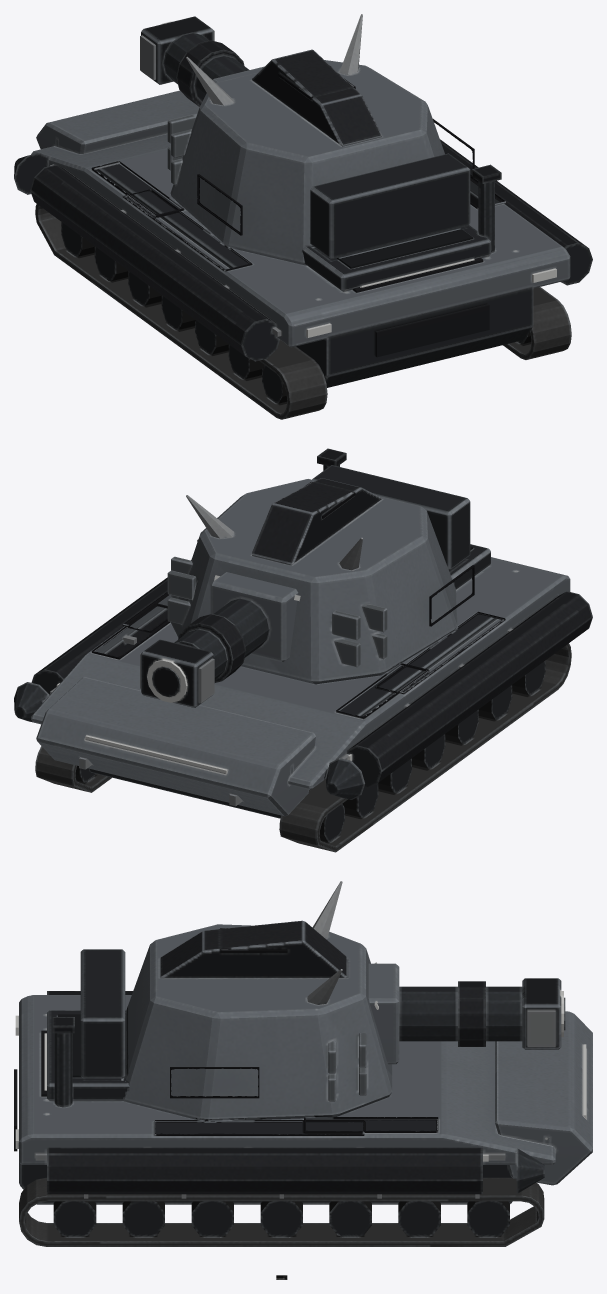
File: chs_grendel.fbx
3 views of the same model, one above another, from view 1: azimuth 30°, elevation 25°; view 2: azimuth 150°, elevation 25°; view 3: azimuth 270°, elevation 25° (orthographic). The views are drawn at different scales.
Parts seen in each view (by area): view 1: base_bar, turret_bar, trackL_bar, barrel_bar, trackR_bar, base_glow_running_bar; view 2: base_bar, turret_bar, trackL_bar, barrel_bar, trackR_bar, base_glow_running_bar, barrel_glow_weapon_bar; view 3: base_bar, turret_bar, trackR_bar, barrel_bar, base_glow_running_bar.
Boxes of the visible parts, left/top/right/bottom form: base_bar: left=14, top=90, right=592, bottom=387; turret_bar: left=167, top=14, right=474, bottom=265; trackL_bar: left=35, top=204, right=327, bottom=419; barrel_bar: left=140, top=16, right=264, bottom=106; trackR_bar: left=503, top=287, right=571, bottom=359; base_glow_running_bar: left=306, top=258, right=556, bottom=337; base_bar: left=14, top=448, right=592, bottom=818; turret_bar: left=167, top=465, right=474, bottom=684; trackL_bar: left=279, top=643, right=571, bottom=852; barrel_bar: left=140, top=572, right=298, bottom=707; trackR_bar: left=35, top=746, right=111, bottom=792; base_glow_running_bar: left=56, top=683, right=352, bottom=773; barrel_glow_weapon_bar: left=147, top=659, right=187, bottom=702; base_bar: left=14, top=991, right=592, bottom=1204; turret_bar: left=80, top=881, right=392, bottom=1121; trackR_bar: left=19, top=1177, right=544, bottom=1246; barrel_bar: left=368, top=963, right=565, bottom=1064; base_glow_running_bar: left=15, top=1015, right=586, bottom=1161.
Size of the model in its own units: 748 by 696 by 1036.
Materials: 2 (2 with a texture image).
